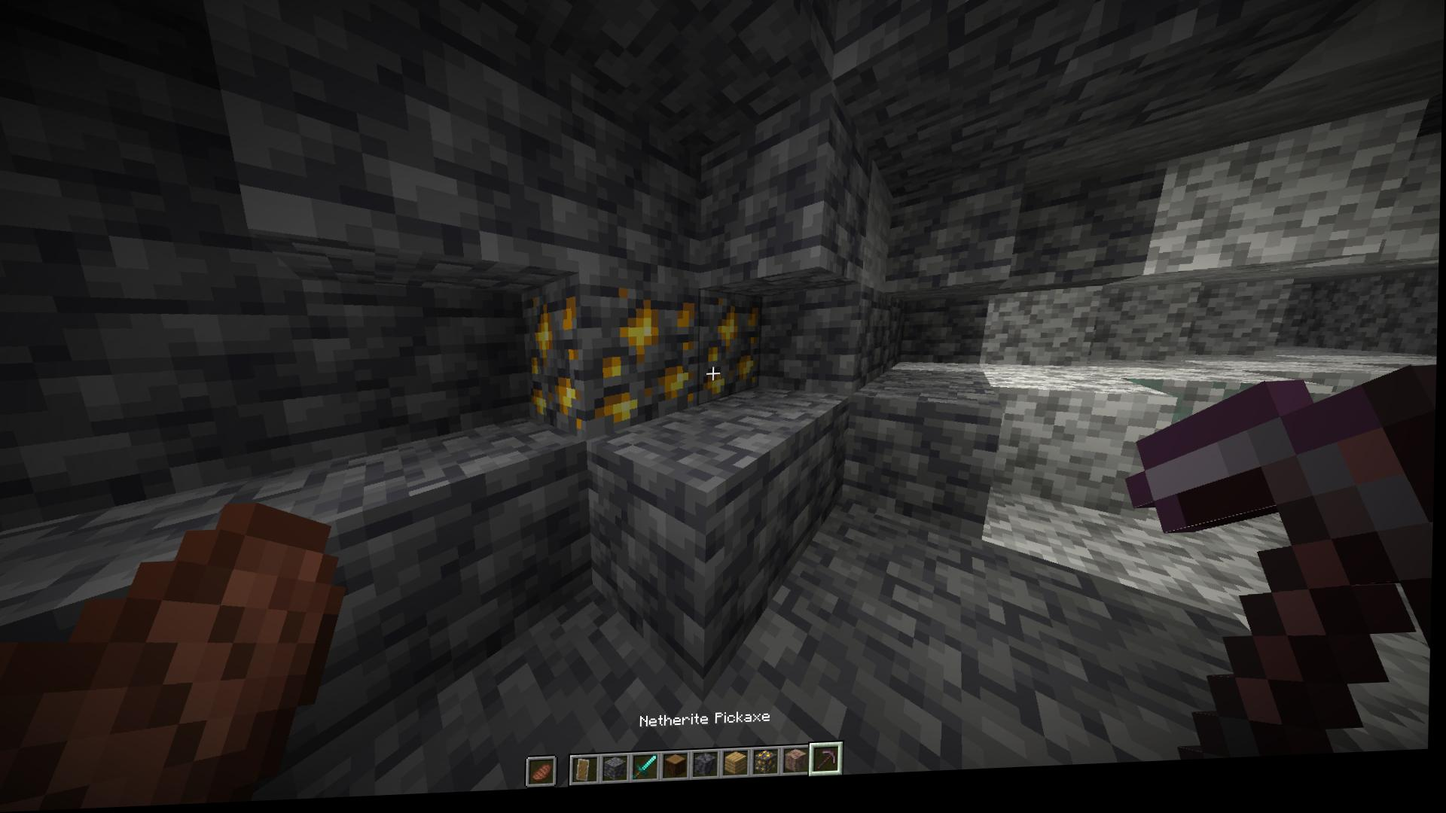gold ore: (512, 286, 700, 441), (693, 299, 765, 414)
